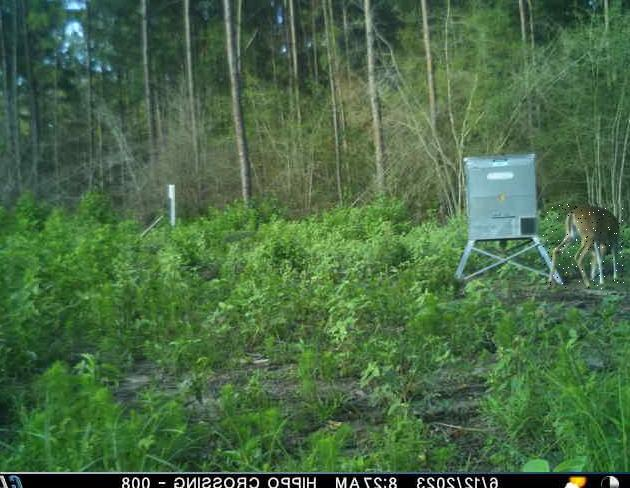Deer: (542, 204, 623, 290)
